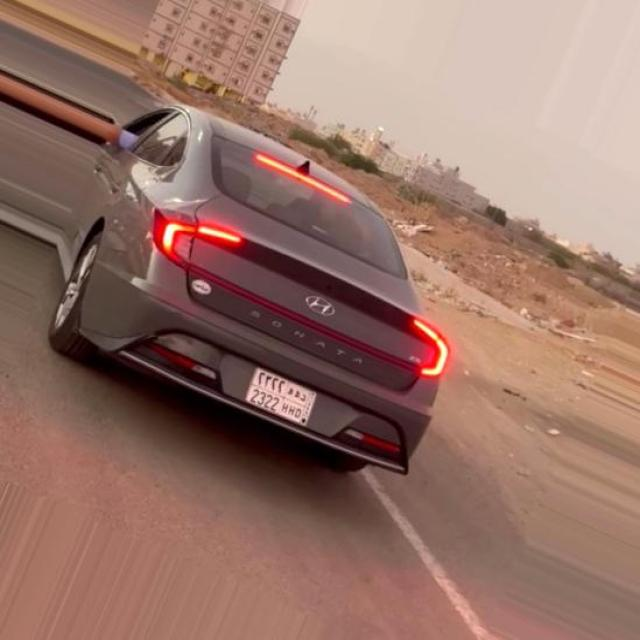Car-plate: (239, 356, 324, 439)
